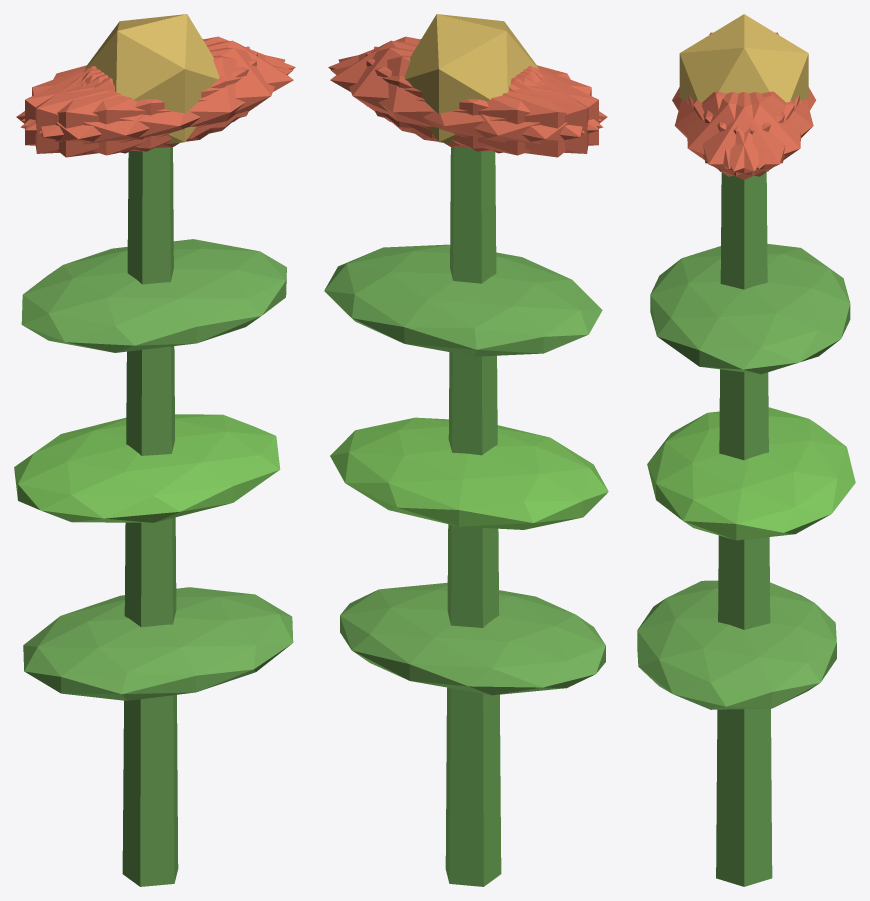
The model's file is tarlmounia-elliptica.glb.
The picture shows the model from 3 angles, left to right: view 1: azimuth 30°, elevation 25°; view 2: azimuth 150°, elevation 25°; view 3: azimuth 270°, elevation 25°; orthographic projection.
Parts seen in each view (by area): view 1: stem, leaf0, leaf2, leaf1, center, petal1, petal6, petal2, petal5, petal7, petal0, petal4 (+2 smaller); view 2: stem, leaf1, leaf2, leaf0, center, petal8, petal3, petal7, petal4, petal2, petal0, petal5 (+2 smaller); view 3: stem, leaf2, leaf1, leaf0, center, petal0, petal4, petal5, petal1, petal8.
Boxes of the visible parts, x1,y1,x2,y2 form: stem: (122,147,178,886); leaf0: (23,587,293,700); leaf2: (21,239,286,352); leaf1: (14,414,280,522); center: (85,14,219,144); petal1: (20,55,292,155); petal6: (16,67,213,157); petal2: (35,46,249,153); petal5: (39,47,285,148); petal7: (25,52,257,151); petal0: (85,40,293,138); petal4: (22,36,295,130); stem: (445,147,501,886); leaf1: (330,417,608,529); leaf2: (324,244,602,356); leaf0: (340,582,605,695); center: (404,14,538,144); petal8: (331,55,603,155); petal3: (410,67,607,157); petal7: (374,46,588,153); petal4: (338,47,584,148); petal2: (366,52,598,151); petal0: (330,40,538,138); petal5: (328,36,601,130); stem: (716,172,772,886); leaf2: (650,243,850,374); leaf1: (647,407,855,540); leaf0: (637,580,836,709); center: (679,14,808,102); petal0: (688,92,799,179); petal4: (693,92,801,176); petal5: (687,92,794,176); petal1: (674,91,784,168); petal8: (703,91,813,168).
Bounding box in the file's own units: 0.1452 × 0.4412 × 0.1036.
